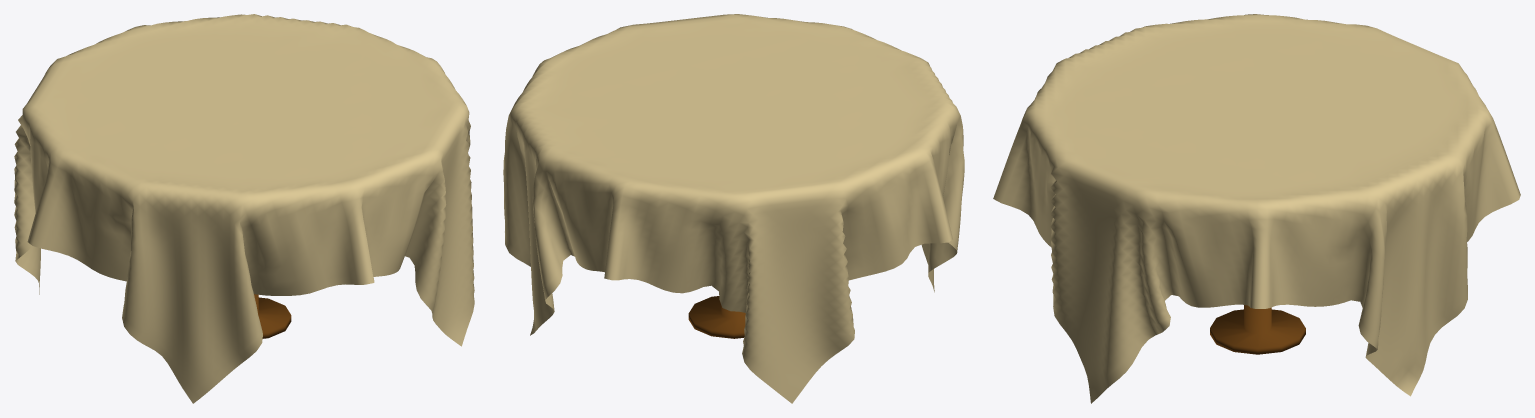
File: Supermarket_Run_Finish_Table.fbx
3 views of the same model, side by side, from view 1: azimuth 30°, elevation 25°; view 2: azimuth 150°, elevation 25°; view 3: azimuth 270°, elevation 25° (orthographic). The views are drawn at different scales.
Visible parts, largest first — view 1: Supermarket_Run_Cloth, Supermarket_Run_Table; view 2: Supermarket_Run_Cloth, Supermarket_Run_Table; view 3: Supermarket_Run_Cloth, Supermarket_Run_Table.
Part boxes in pixels (<box>): Supermarket_Run_Cloth: <box>14,14,474,403</box>; Supermarket_Run_Table: <box>254,294,291,338</box>; Supermarket_Run_Cloth: <box>503,14,964,403</box>; Supermarket_Run_Table: <box>688,296,745,338</box>; Supermarket_Run_Cloth: <box>993,14,1520,403</box>; Supermarket_Run_Table: <box>1210,305,1305,354</box>.
Bounding box in the file's own units: 255 × 122 × 256.
